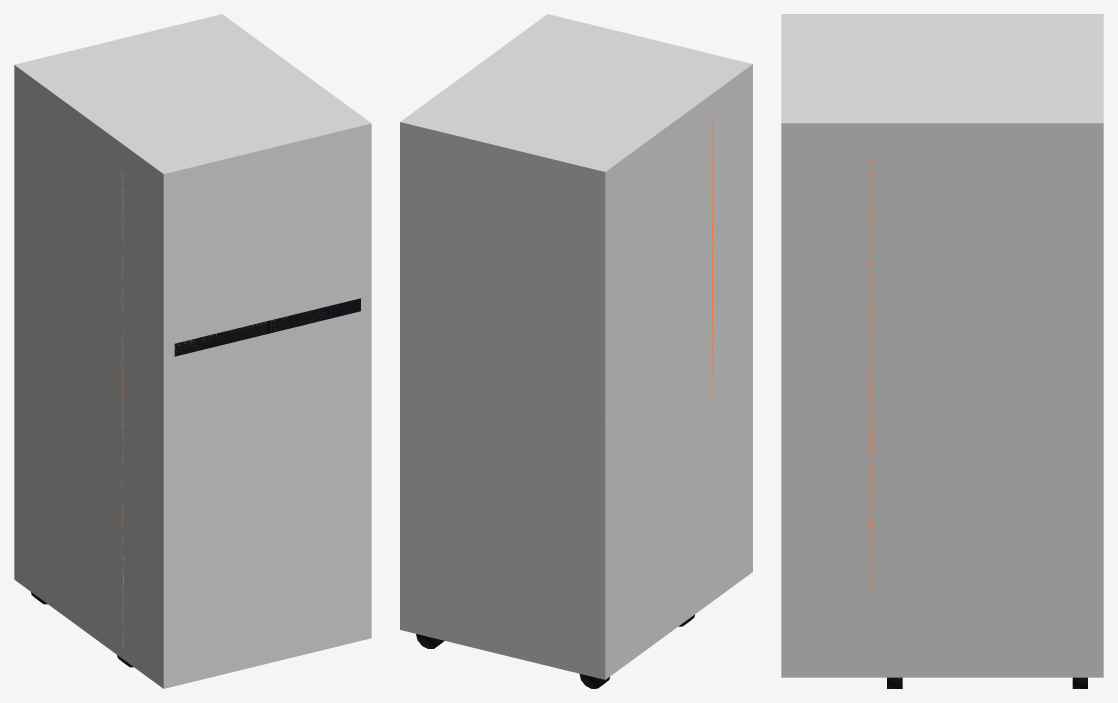
File: Tech_TerminalKiosk.gltf
The picture shows the model from 3 angles, left to right: view 1: azimuth 30°, elevation 25°; view 2: azimuth 150°, elevation 25°; view 3: azimuth 270°, elevation 25°; orthographic projection. The views are drawn at different scales.
Parts seen in each view (by area): view 1: Tech_TerminalKiosk_COL, Tech_TerminalKiosk; view 2: Tech_TerminalKiosk_COL, Tech_TerminalKiosk; view 3: Tech_TerminalKiosk_COL, Tech_TerminalKiosk.
Boxes of the visible parts, x1,y1,x2,y2 form: Tech_TerminalKiosk_COL: (14,14,371,688); Tech_TerminalKiosk: (31,171,360,667); Tech_TerminalKiosk_COL: (400,14,752,679); Tech_TerminalKiosk: (416,120,713,688); Tech_TerminalKiosk_COL: (781,14,1103,677); Tech_TerminalKiosk: (867,153,1087,688).
Size of the model in its own units: 0.502 by 1.23 by 0.625.
5 materials, 3 textured.
